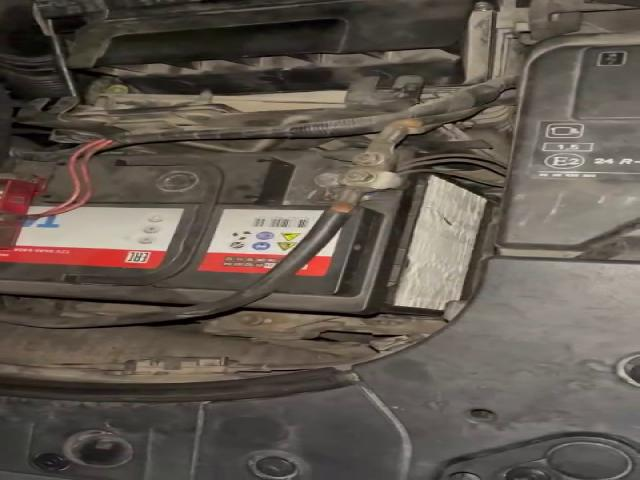accumulator: (0, 149, 497, 316)
fuse_box: (502, 42, 640, 253)
